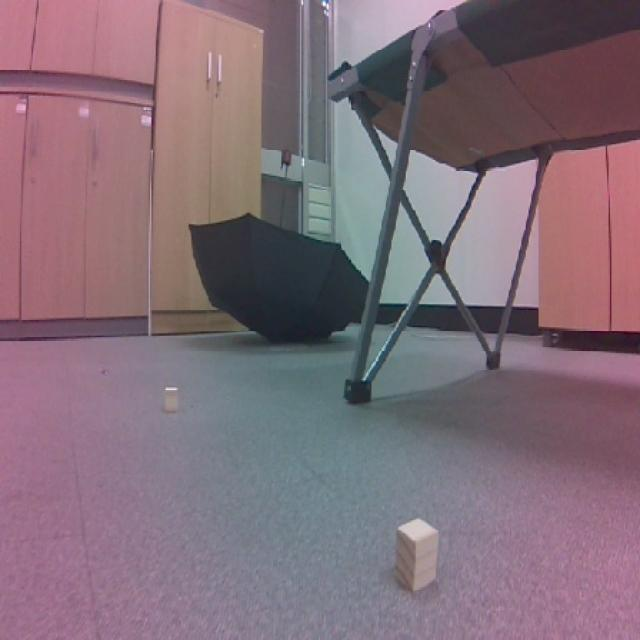obstacle: (378, 509, 454, 600)
